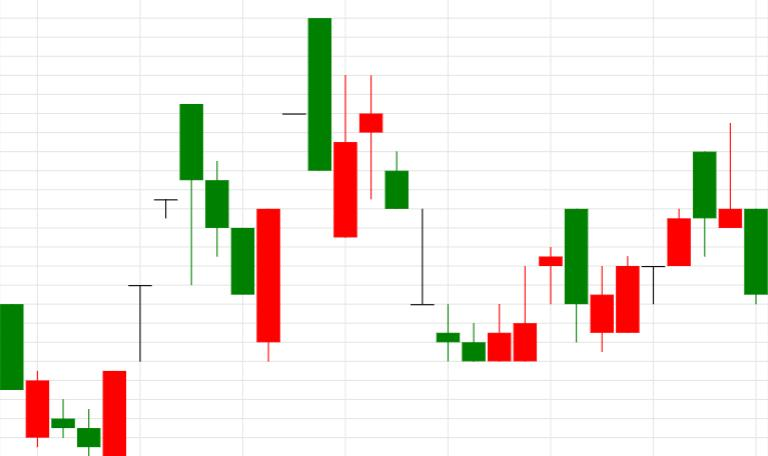three_black_crows_fall: (26, 104, 254, 456)
